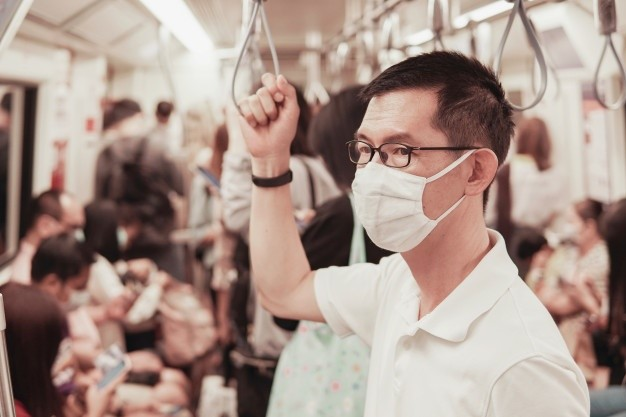face_with_mask: (349, 58, 508, 248), (31, 233, 95, 310)
